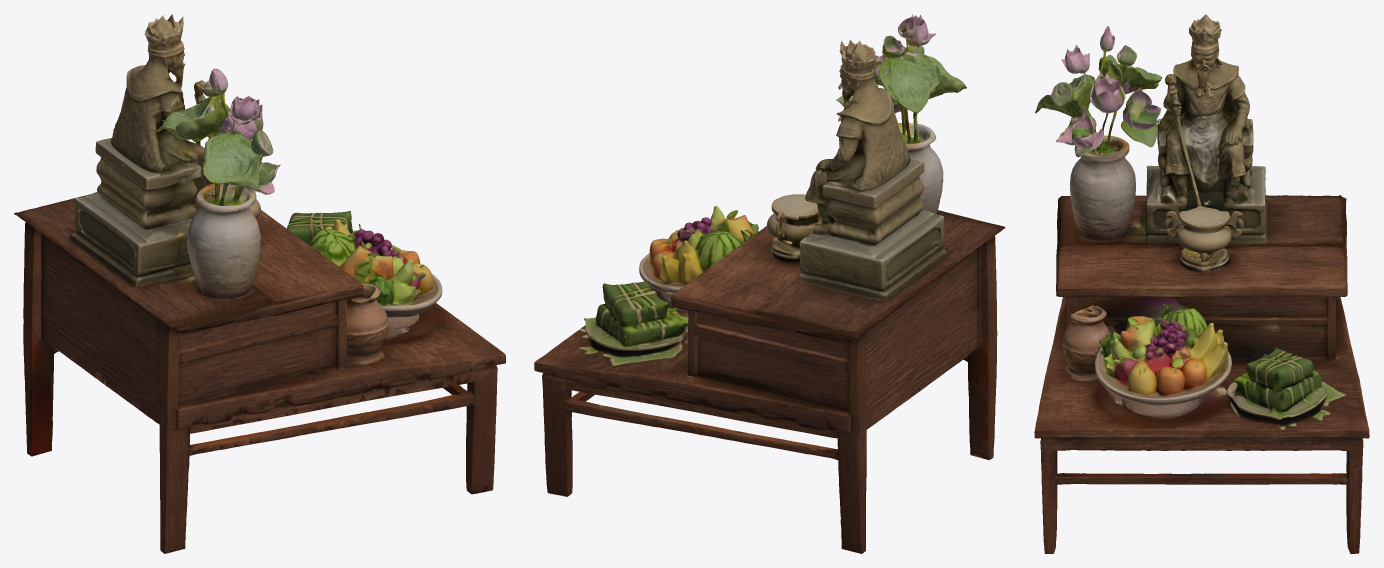
File: vanlang10.glb
The picture shows the model from 3 angles, left to right: view 1: azimuth 30°, elevation 25°; view 2: azimuth 150°, elevation 25°; view 3: azimuth 270°, elevation 25°; orthographic projection. The views are drawn at different scales.
Visible parts, largest first — view 1: tripo_node_ac860004-bdba-4491-a5bf-a37417336174; view 2: tripo_node_ac860004-bdba-4491-a5bf-a37417336174; view 3: tripo_node_ac860004-bdba-4491-a5bf-a37417336174.
Part boxes in pixels (box(x1,y1,x2,y2)): tripo_node_ac860004-bdba-4491-a5bf-a37417336174: box(14, 14, 505, 553); tripo_node_ac860004-bdba-4491-a5bf-a37417336174: box(534, 14, 1005, 553); tripo_node_ac860004-bdba-4491-a5bf-a37417336174: box(1034, 14, 1369, 553).
Bounding box in the file's own units: 0.7226 × 1 × 0.7036.
1 material, 1 textured.
